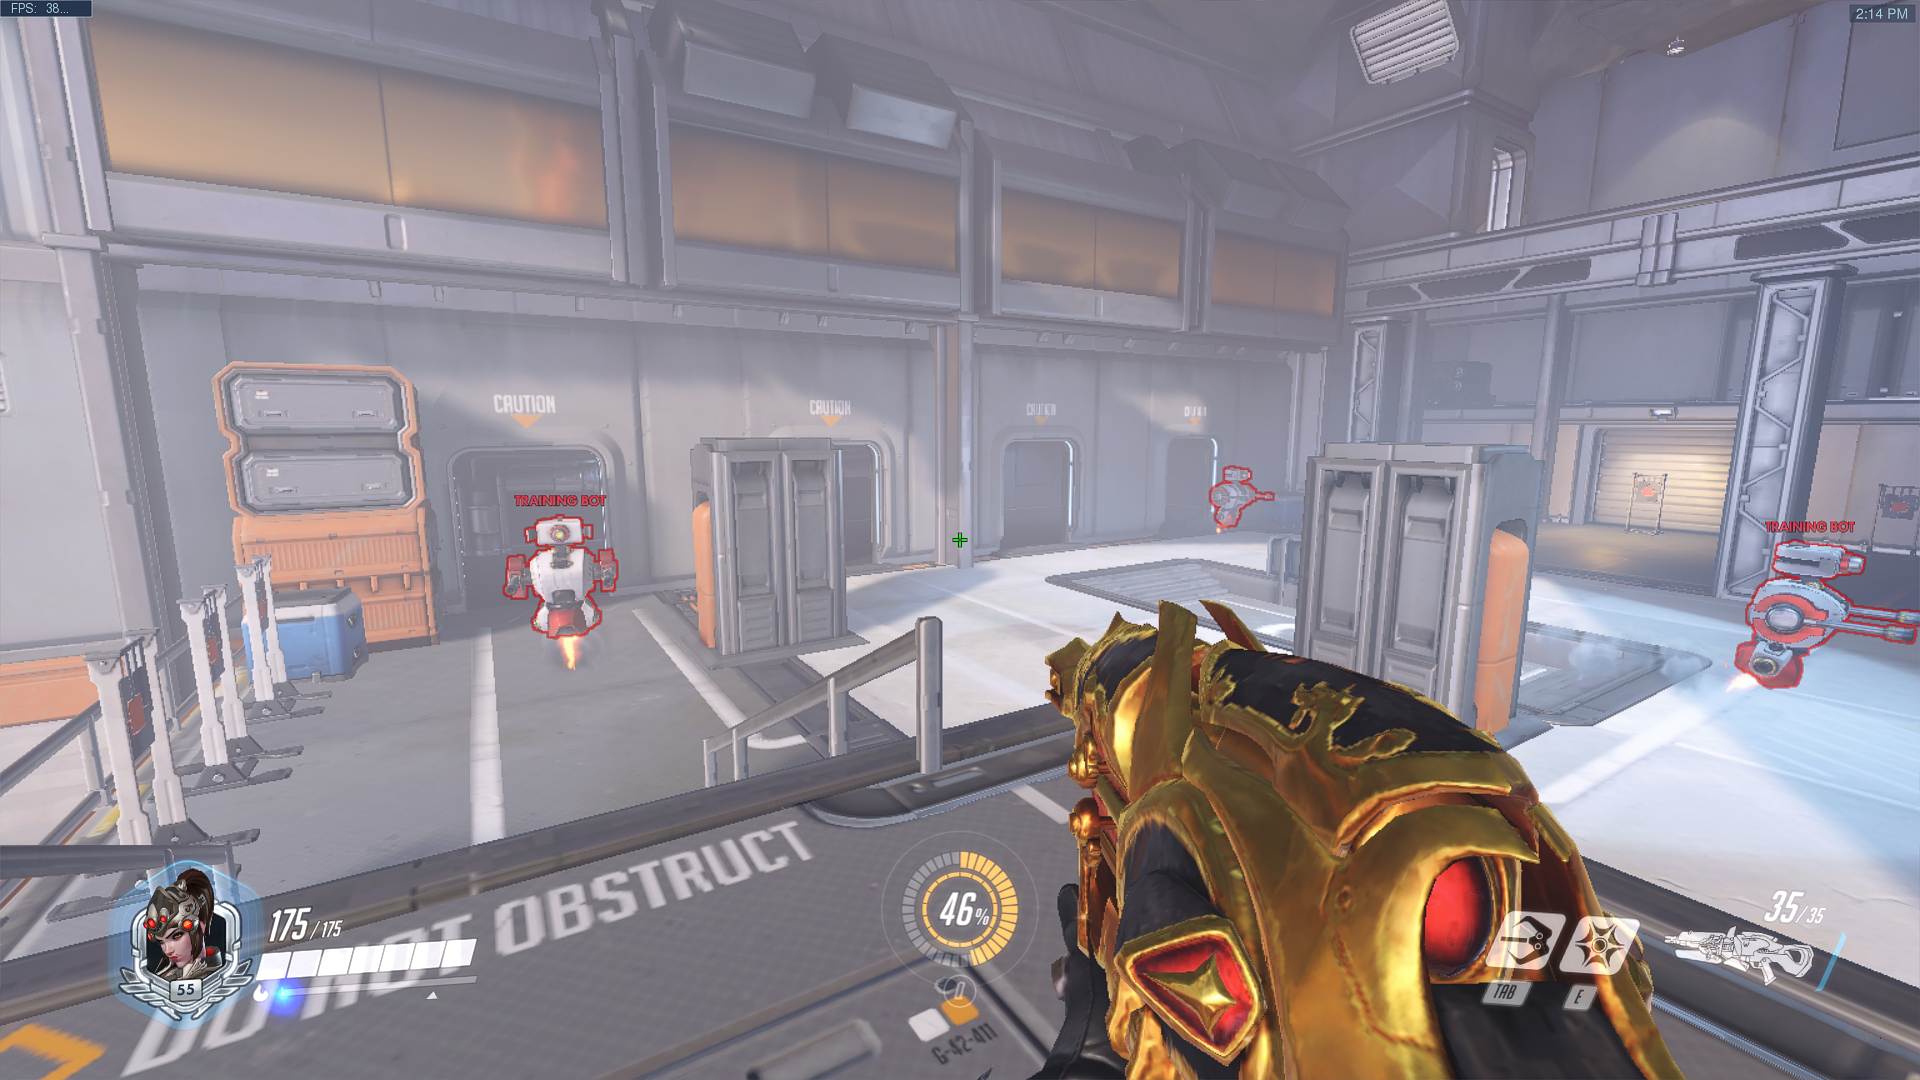head: (1772, 536, 1864, 584), (524, 519, 596, 556), (1218, 465, 1258, 485)
